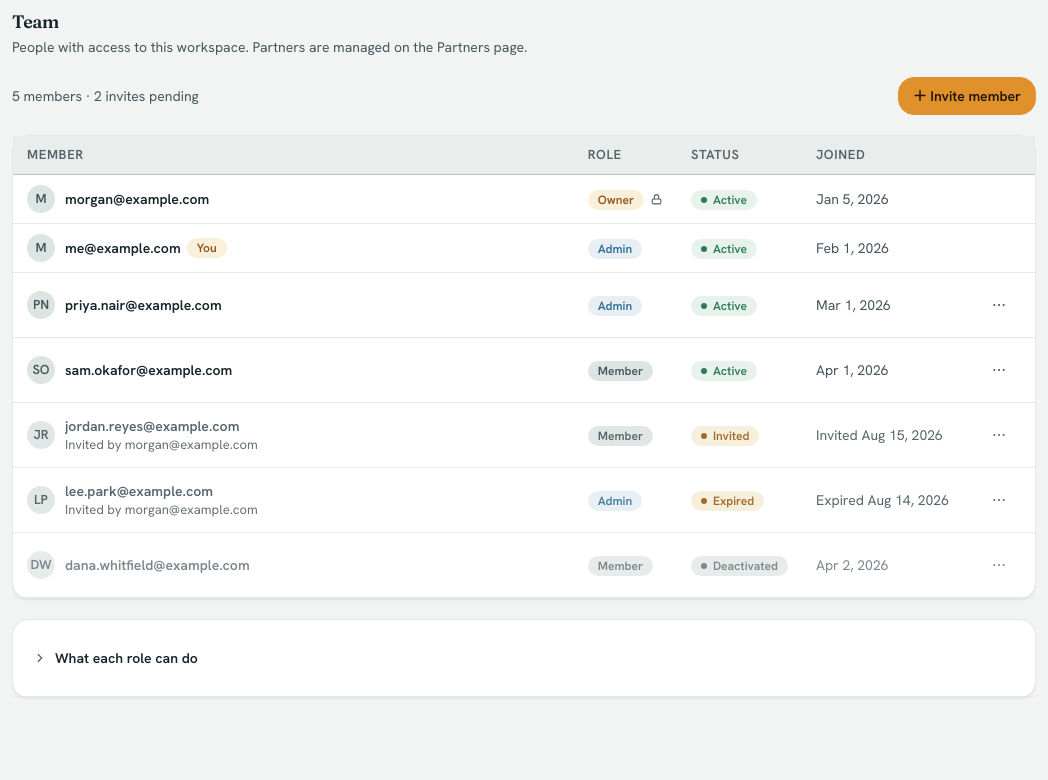
Test case: TM: Settings → Team roster › TM-05: an admin target's menu items are DISABLED (with the reason) for a non-owner caller
Step 1. Click the button named "Actions for priya.nair@example.com" → (999, 305), box top-left (977, 283), bottom-right (1021, 327)
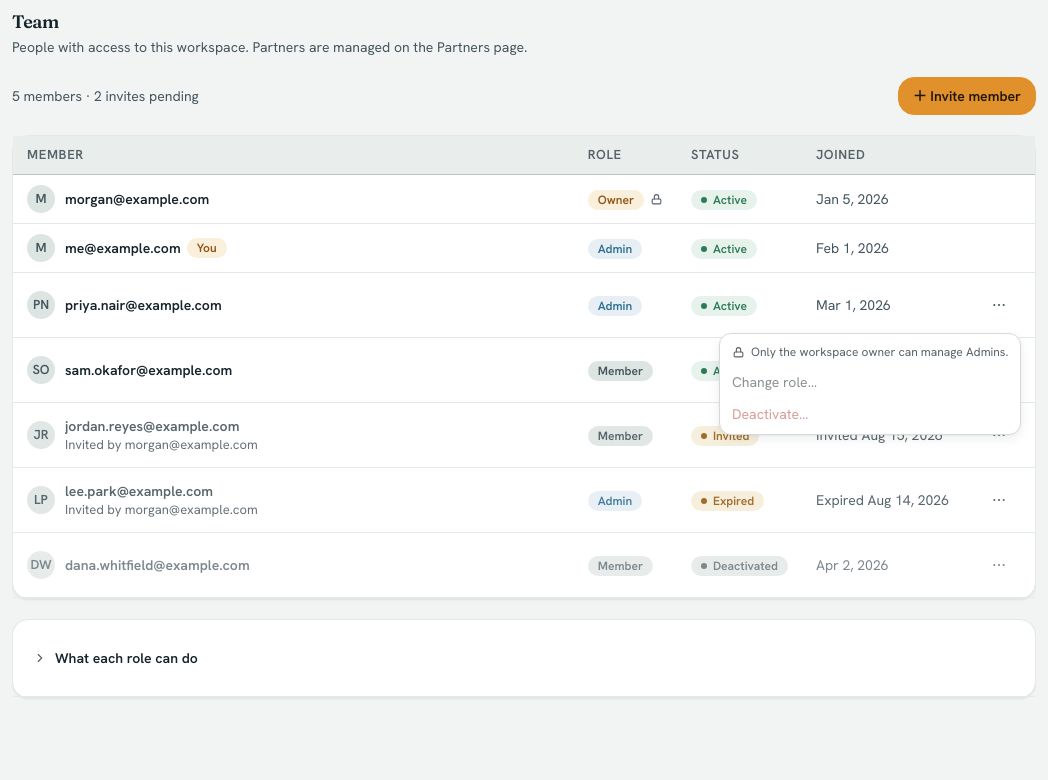
Expected: the text "Only the workspace owner can manage Admins." is shown, top-left (732, 344), bottom-right (1008, 360)
